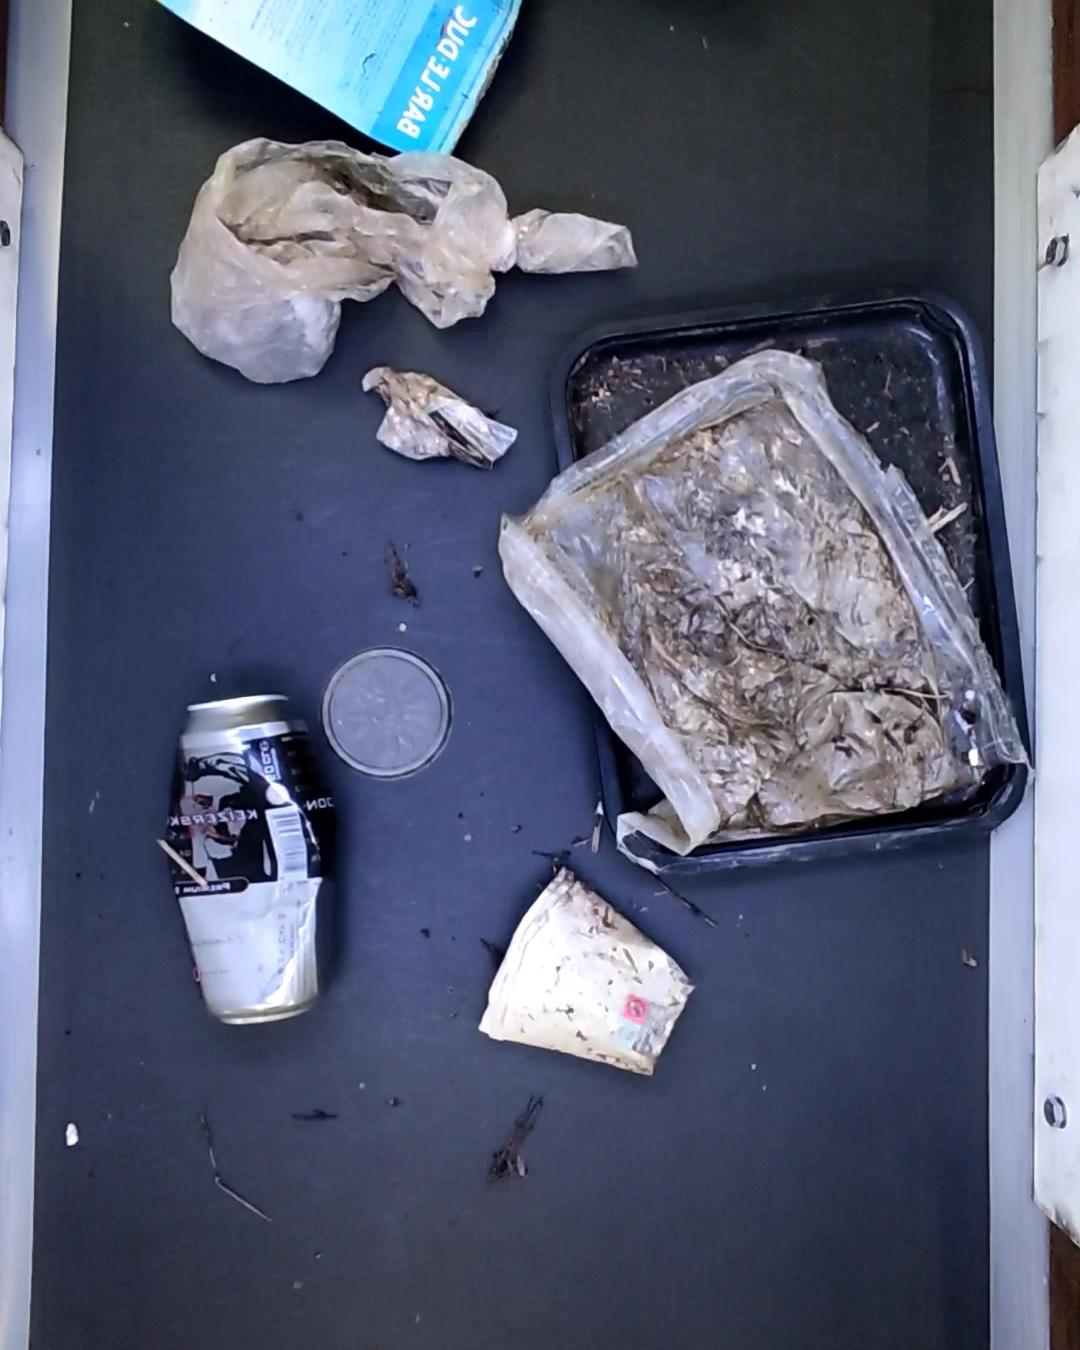Drankblikjes: (169, 690, 342, 1026)
Plastic folies of stukken daarvan 2.5- 50 cm: (171, 134, 639, 381), (361, 364, 517, 483)
Voedselverpakkingen: (499, 281, 1047, 881)
